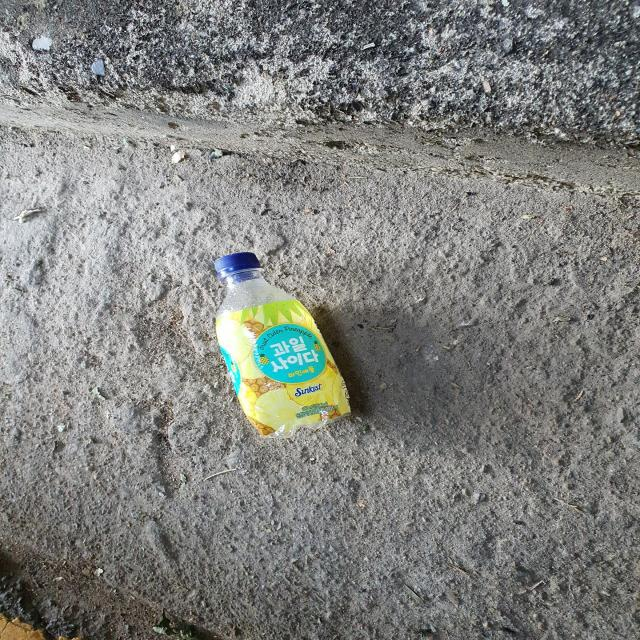plastic: (214, 252, 351, 438)
